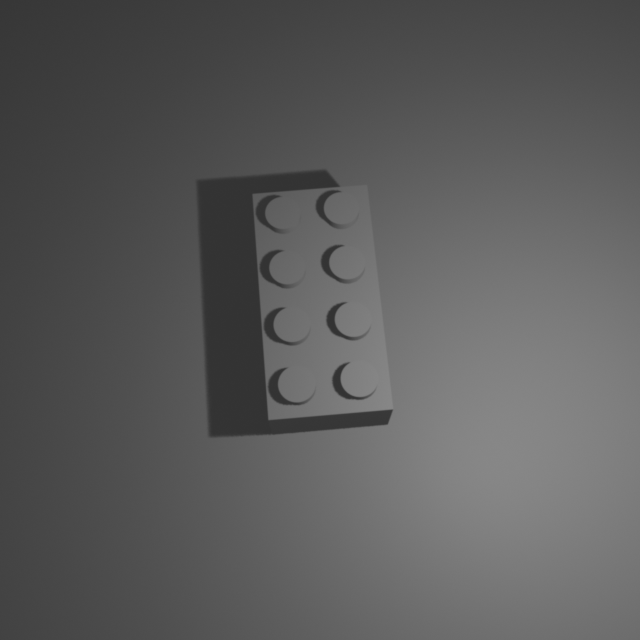lego_2x4: (252, 179, 394, 435)
